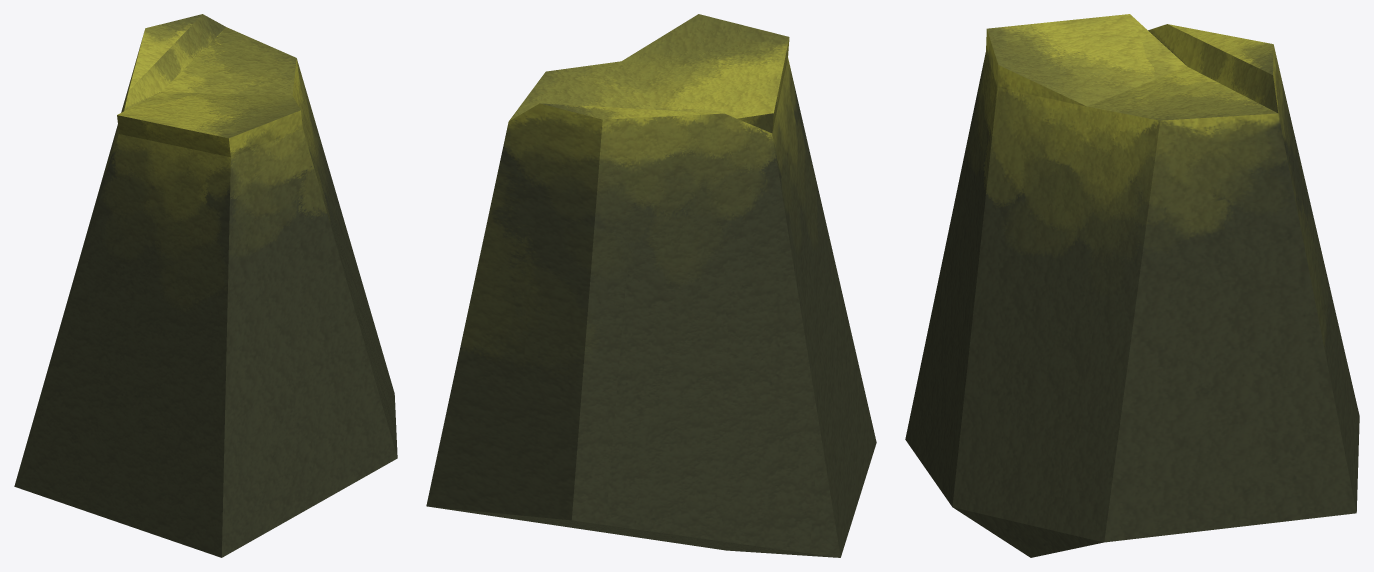
The model's file is oreE2.fbx.
3 views of the same model, side by side, from view 1: azimuth 30°, elevation 25°; view 2: azimuth 150°, elevation 25°; view 3: azimuth 270°, elevation 25° (orthographic). The views are drawn at different scales.
Parts seen in each view (by area): view 1: Cylinder.003; view 2: Cylinder.003; view 3: Cylinder.003.
Part boxes in pixels (x1=…): Cylinder.003: x1=14, y1=14, x2=397, y2=557; Cylinder.003: x1=426, y1=14, x2=876, y2=557; Cylinder.003: x1=905, y1=14, x2=1359, y2=557.
Bounding box in the file's own units: 253 × 302 × 254.
